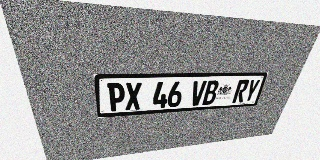4: (152, 82, 169, 109)
6: (167, 81, 184, 107)
B: (202, 80, 220, 105)
P: (107, 83, 125, 112)
R: (232, 79, 250, 103)
V: (189, 81, 207, 106)
X: (125, 82, 142, 110)
Y: (243, 79, 261, 102)
